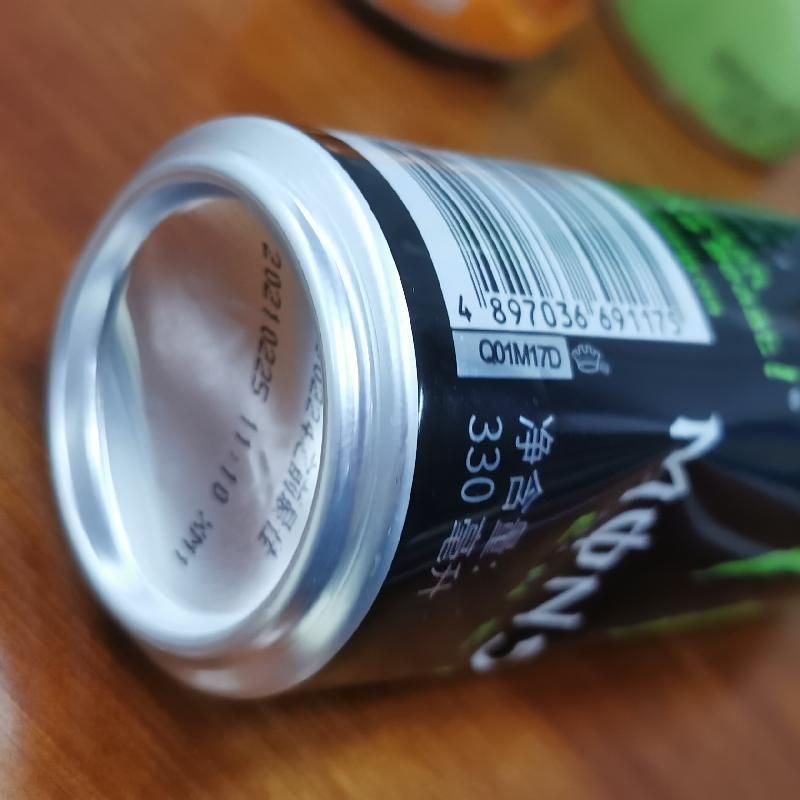cans: (44, 111, 800, 701)
